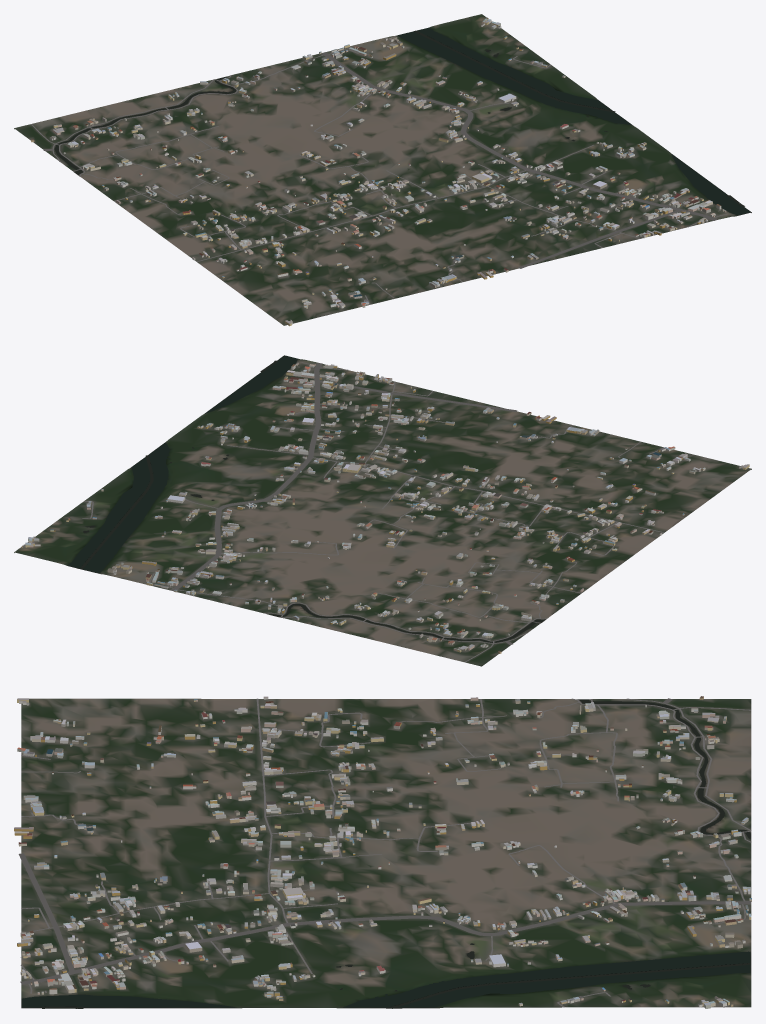
3 views of the same model, one above another, from view 1: azimuth 30°, elevation 25°; view 2: azimuth 150°, elevation 25°; view 3: azimuth 270°, elevation 25° (orthographic). The views are drawn at different scales.
Visible parts, largest first — view 1: ground, buildings, water, roads; view 2: ground, buildings, water, roads; view 3: ground, buildings, water, roads.
Part boxes in pixels (x1=…): ground: x1=14, y1=14, x2=751, y2=325; buildings: x1=31, y1=17, x2=726, y2=326; water: x1=54, y1=27, x2=750, y2=215; roads: x1=31, y1=48, x2=727, y2=304; ground: x1=14, y1=356, x2=751, y2=666; buildings: x1=21, y1=362, x2=749, y2=653; water: x1=68, y1=355, x2=545, y2=642; roads: x1=23, y1=362, x2=664, y2=662; ground: x1=21, y1=698, x2=751, y2=1008; buildings: x1=14, y1=696, x2=751, y2=1008; water: x1=21, y1=699, x2=751, y2=1008; roads: x1=18, y1=698, x2=751, y2=1007.
Bounding box in the file's own units: 1411 × 16.87 × 1416.
